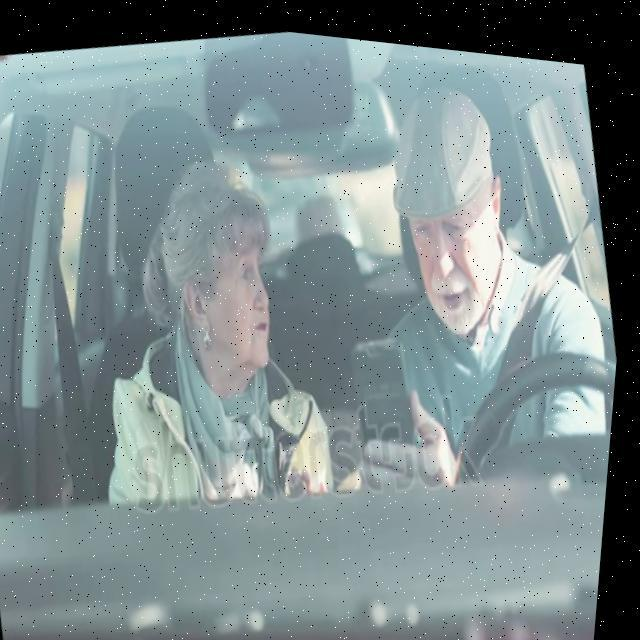PhoneCall: (342, 316, 440, 480)
